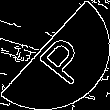P_NW: (22, 25, 88, 85)
